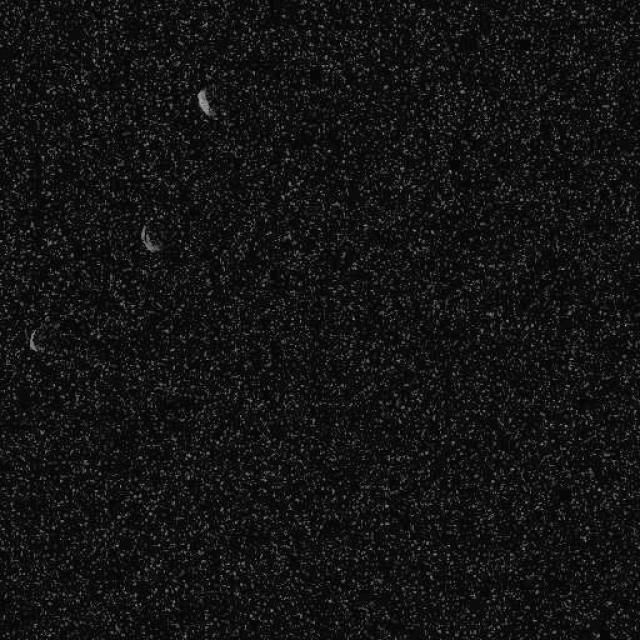D2: (138, 222, 162, 254), (195, 86, 217, 120), (28, 326, 46, 354)
